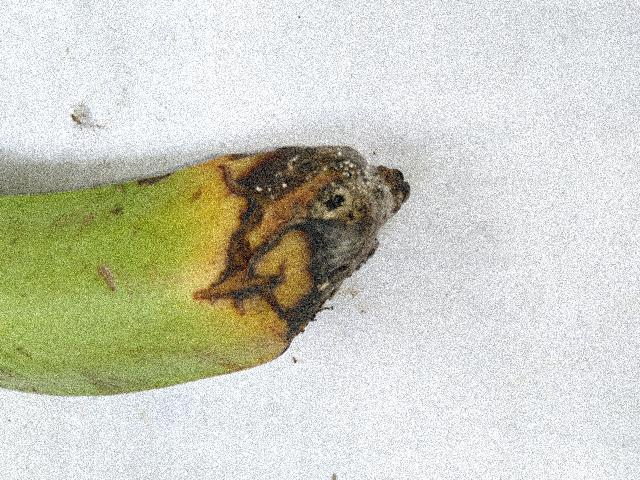rotten: (174, 119, 441, 394)
